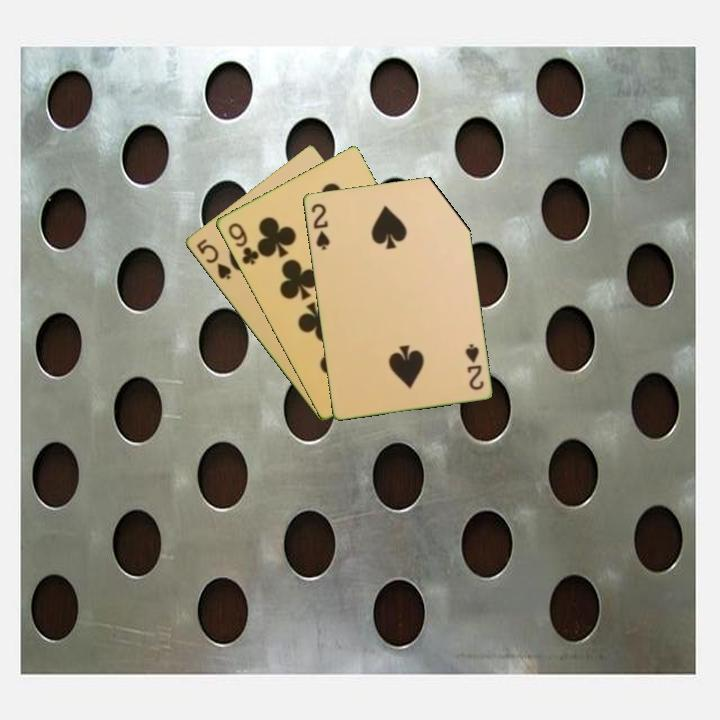2s: (307, 200, 332, 253), (462, 340, 486, 393)
5s: (192, 235, 234, 283)
9c: (224, 219, 262, 268)
